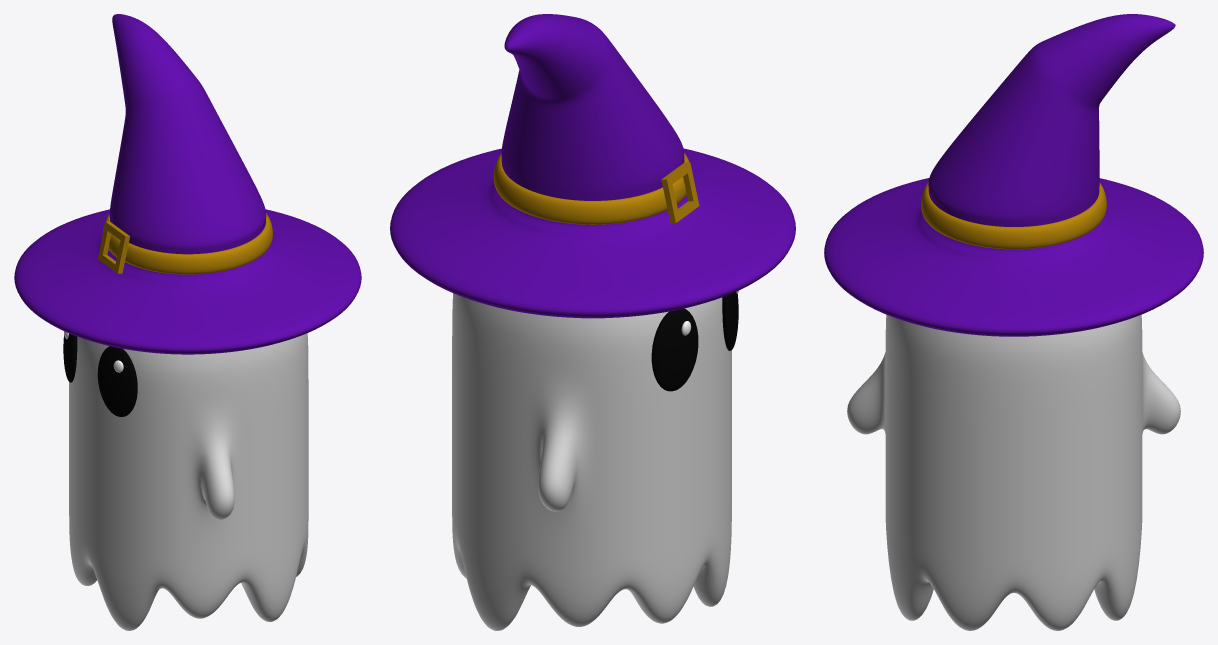
The model's file is ghost.glb.
The picture shows the model from 3 angles, left to right: view 1: azimuth 30°, elevation 25°; view 2: azimuth 150°, elevation 25°; view 3: azimuth 270°, elevation 25°; orthographic projection. The views are drawn at different scales.
Parts seen in each view (by area): view 1: Cube; view 2: Cube; view 3: Cube.
Boxes of the visible parts, box(x1,y1,x2,y2) form: Cube: box(14, 14, 361, 630); Cube: box(390, 14, 795, 630); Cube: box(824, 14, 1203, 630).
Bounding box in the file's own units: 2.47 × 4.19 × 2.47.
